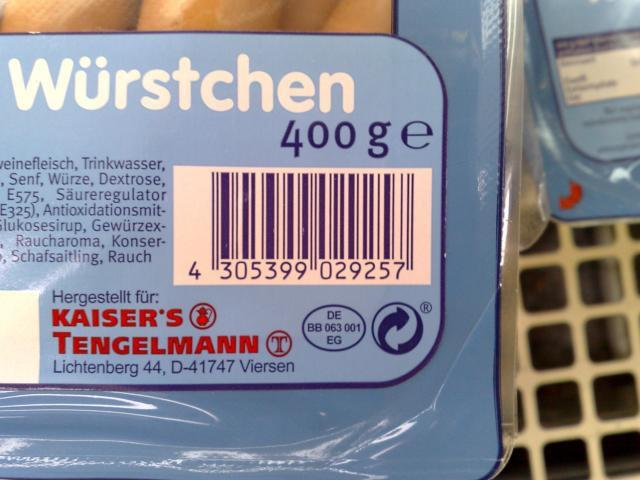Barcode: (174, 168, 430, 283)
